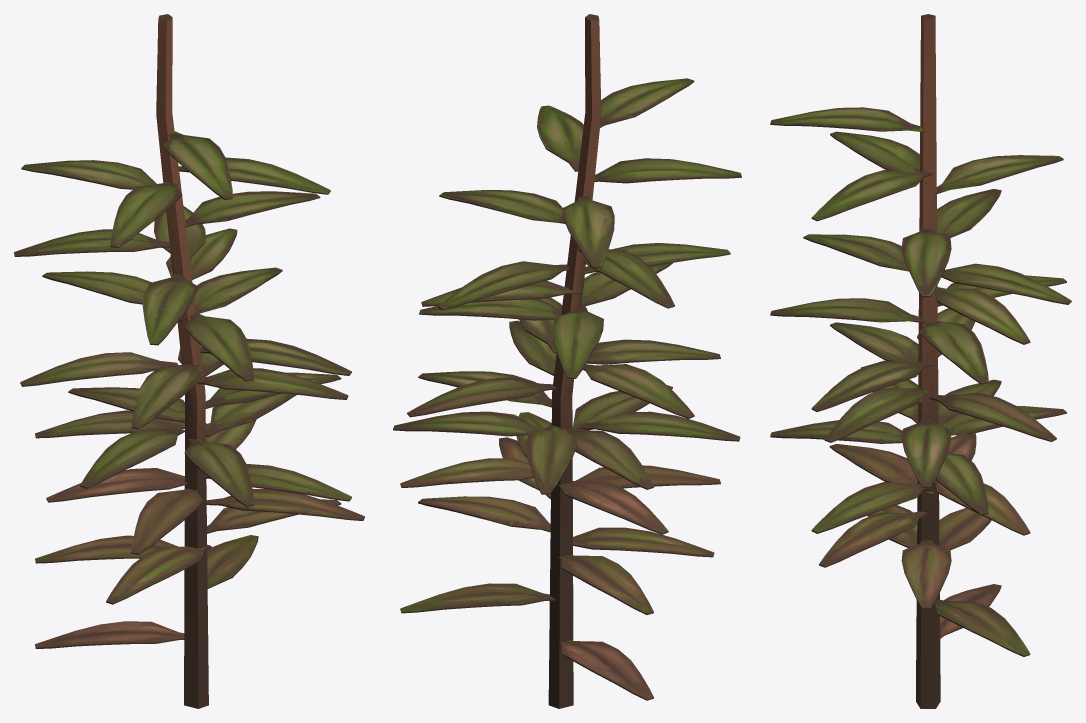
File: Vines1_Orange.obj
The picture shows the model from 3 angles, left to right: view 1: azimuth 30°, elevation 25°; view 2: azimuth 150°, elevation 25°; view 3: azimuth 270°, elevation 25°; orthographic projection. The views are drawn at different scales.
Parts seen in each view (by area): view 1: group4_pCube9_initialShadingGroup; view 2: group4_pCube9_initialShadingGroup; view 3: group4_pCube9_initialShadingGroup.
Part boxes in pixels (box(x1,y1,x2,y2)): group4_pCube9_initialShadingGroup: box(14, 14, 364, 708); group4_pCube9_initialShadingGroup: box(393, 14, 741, 708); group4_pCube9_initialShadingGroup: box(770, 14, 1071, 708).
Bounding box in the file's own units: 2.09 × 4.69 × 1.9.
Materials: 1 (1 with a texture image).
